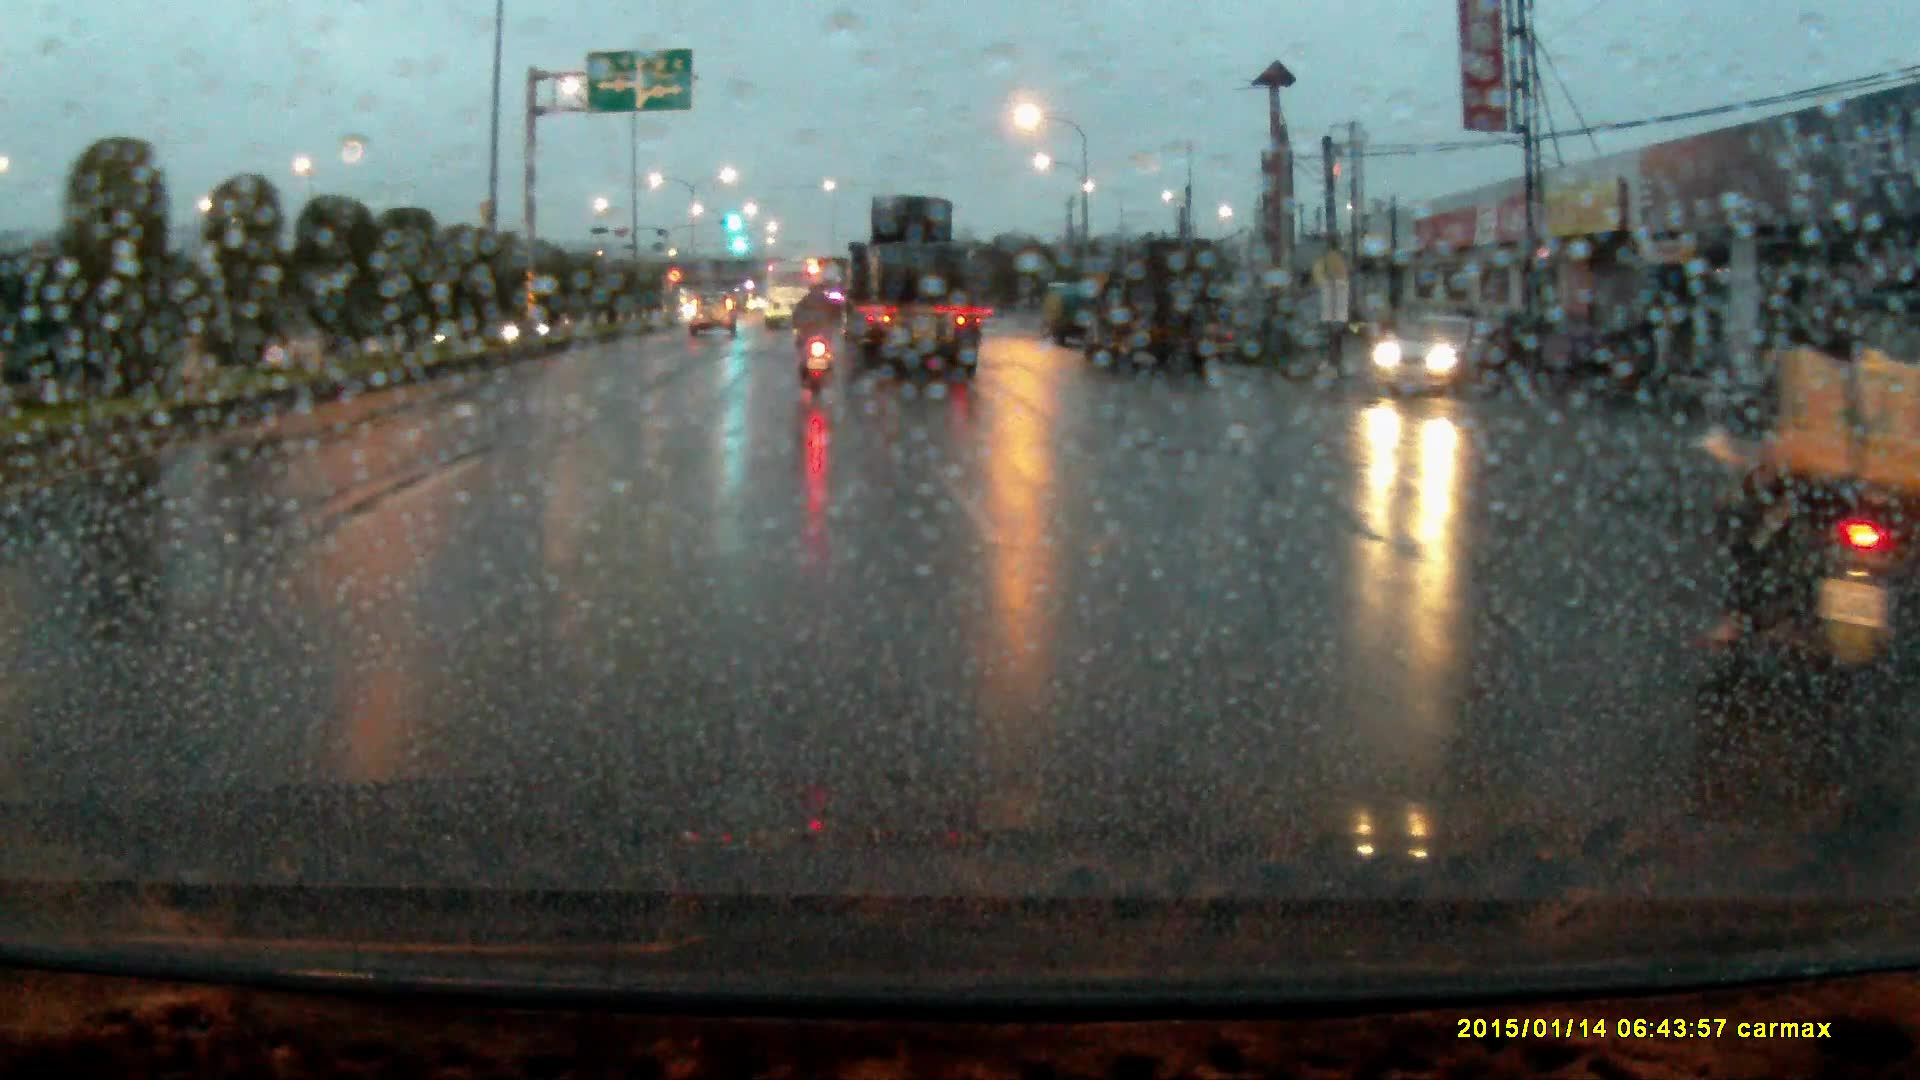rider: (1689, 249, 1920, 690), (794, 272, 850, 399)
vehicle: (841, 195, 979, 376), (1088, 234, 1233, 377), (1375, 315, 1510, 403), (766, 263, 827, 326), (1045, 282, 1095, 345), (689, 292, 739, 340)
